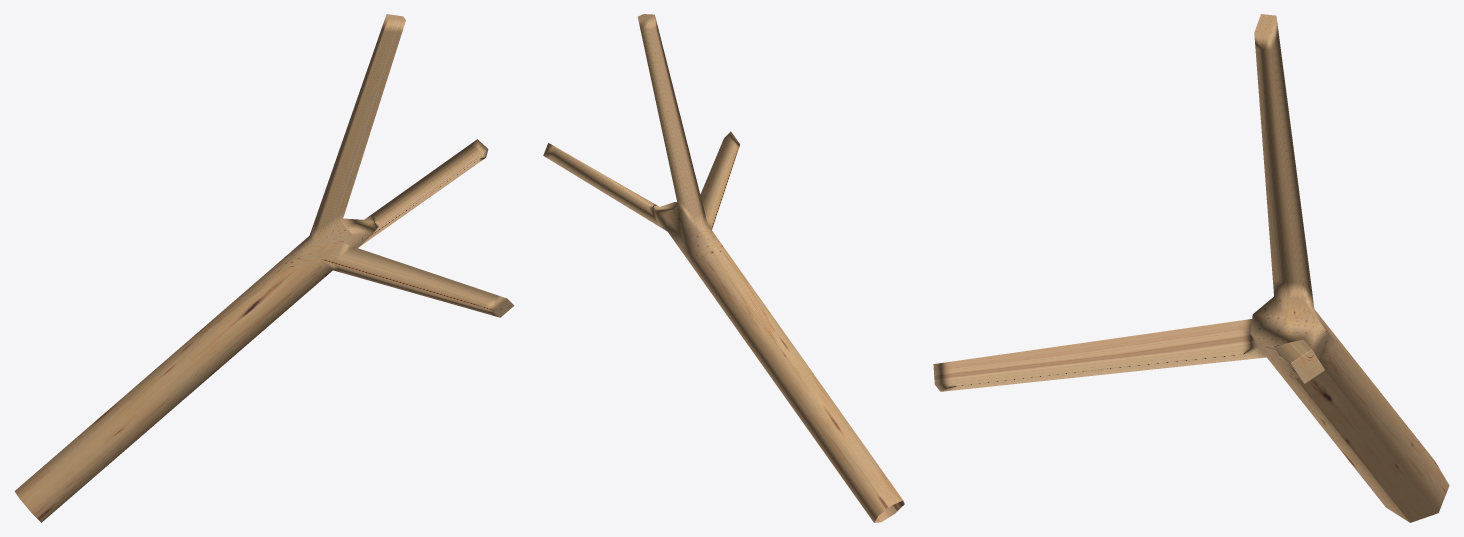
The model's file is brazo1.obj.
The picture shows the model from 3 angles, left to right: view 1: azimuth 30°, elevation 25°; view 2: azimuth 150°, elevation 25°; view 3: azimuth 270°, elevation 25°; orthographic projection. The views are drawn at different scales.
Parts seen in each view (by area): view 1: snowman:BranchL; view 2: snowman:BranchL; view 3: snowman:BranchL.
Boxes of the visible parts, x1=… form: snowman:BranchL: x1=14, y1=14, x2=514, y2=522; snowman:BranchL: x1=543, y1=14, x2=904, y2=522; snowman:BranchL: x1=933, y1=14, x2=1449, y2=522.
Size of the model in its own units: 0.941 by 0.9588 by 0.6019.
Materials: 1 (1 with a texture image).
